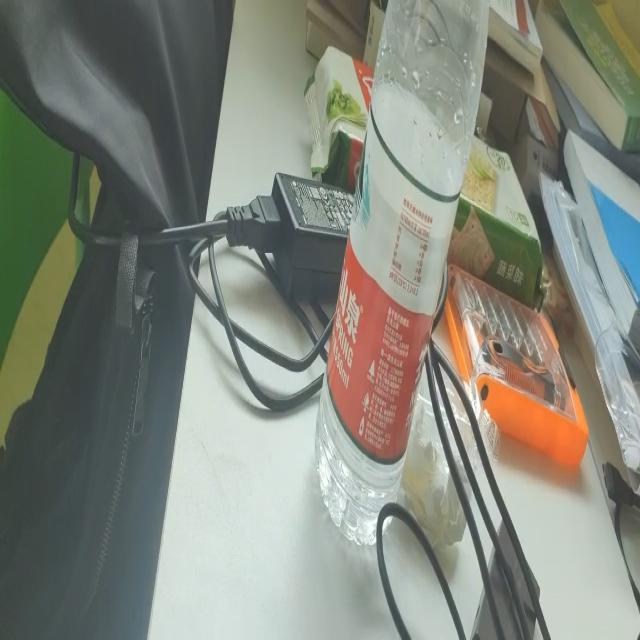bottle: (313, 0, 496, 548)
